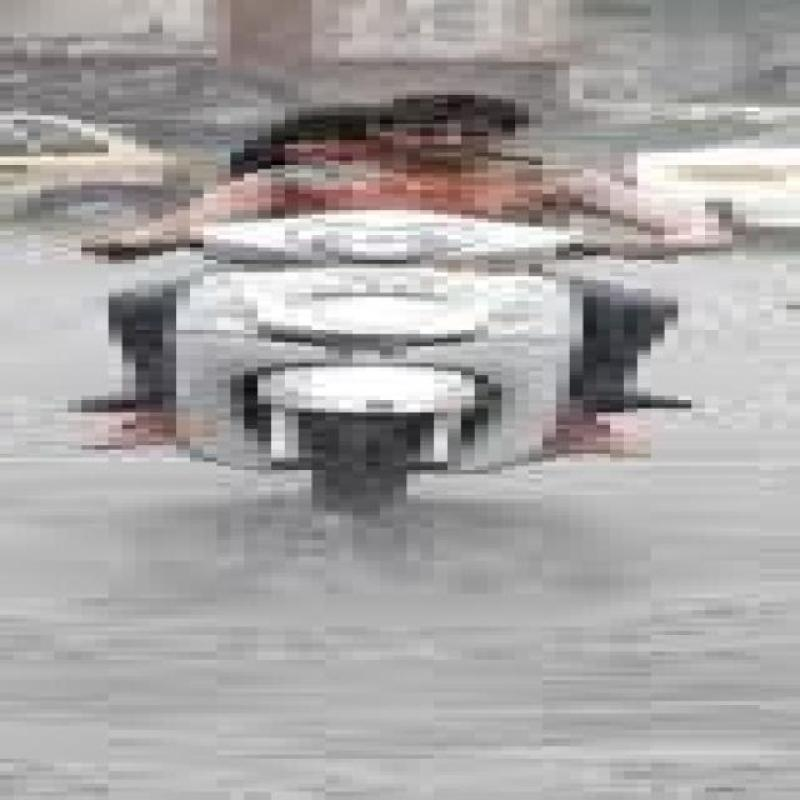nohelmet: (350, 84, 578, 166)
